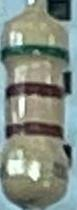Brown: (4, 83, 66, 101), (4, 123, 67, 139)
Green: (2, 44, 68, 65)
Side-Silver: (2, 161, 68, 183)
